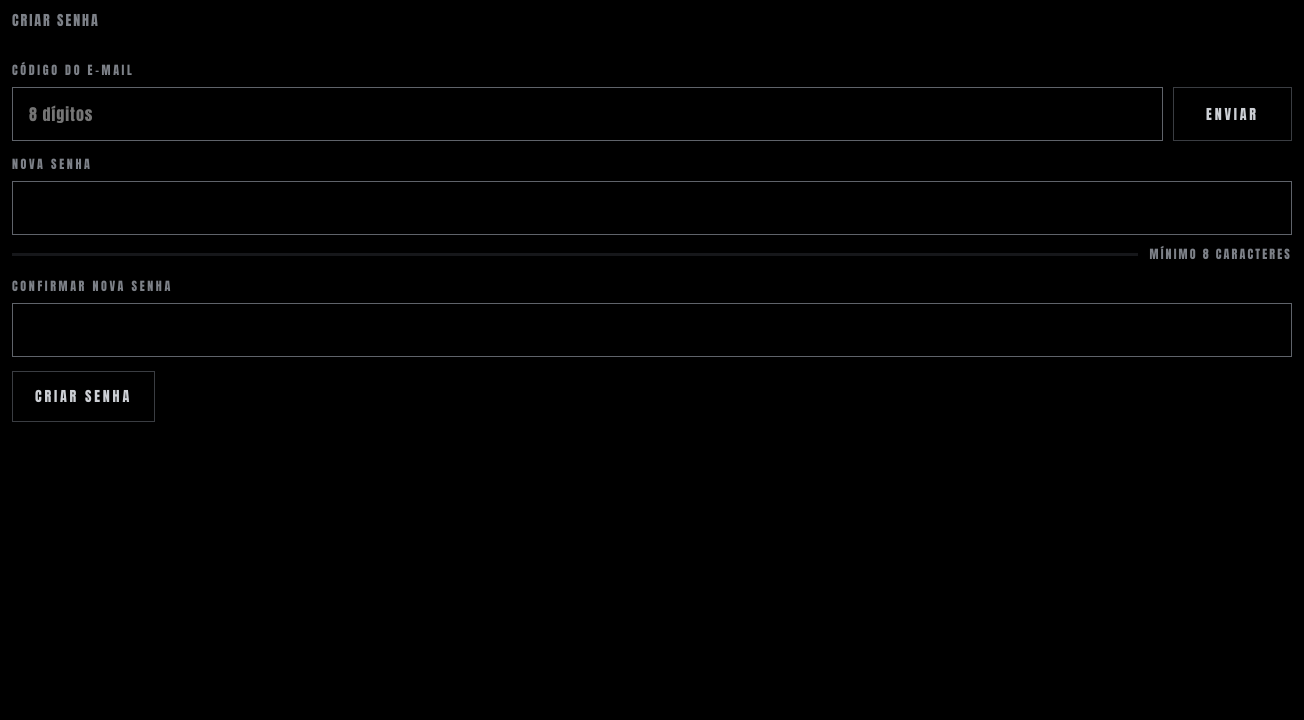
Scenario: bloco de senha de Seguranca (#389) › pedir o codigo nao leva a senha digitada junto
The width and height of the screenshot is (1304, 720).
Type "senha-nova-longa-2" into the password field labelled "Nova senha" at (652, 208), box [12,181,1292,235]
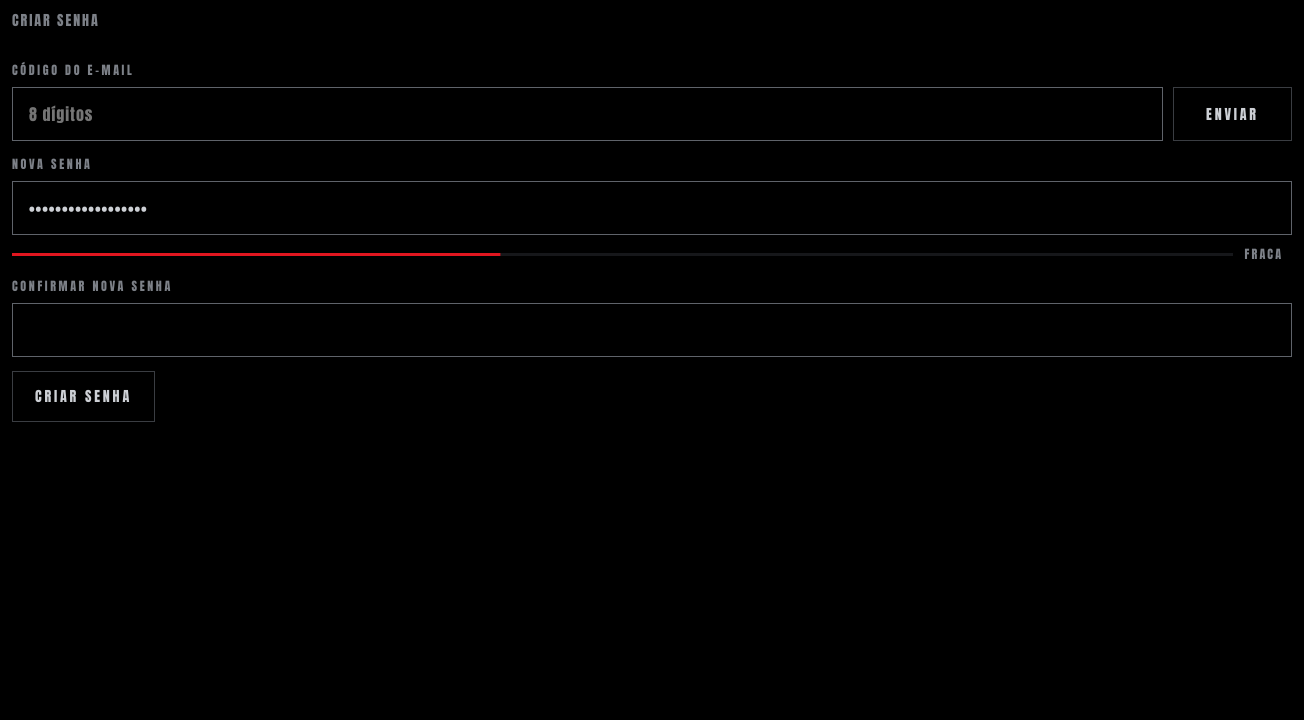
Click the button with aria-label "Enviar código" at (1232, 114), box [1173,87,1292,141]
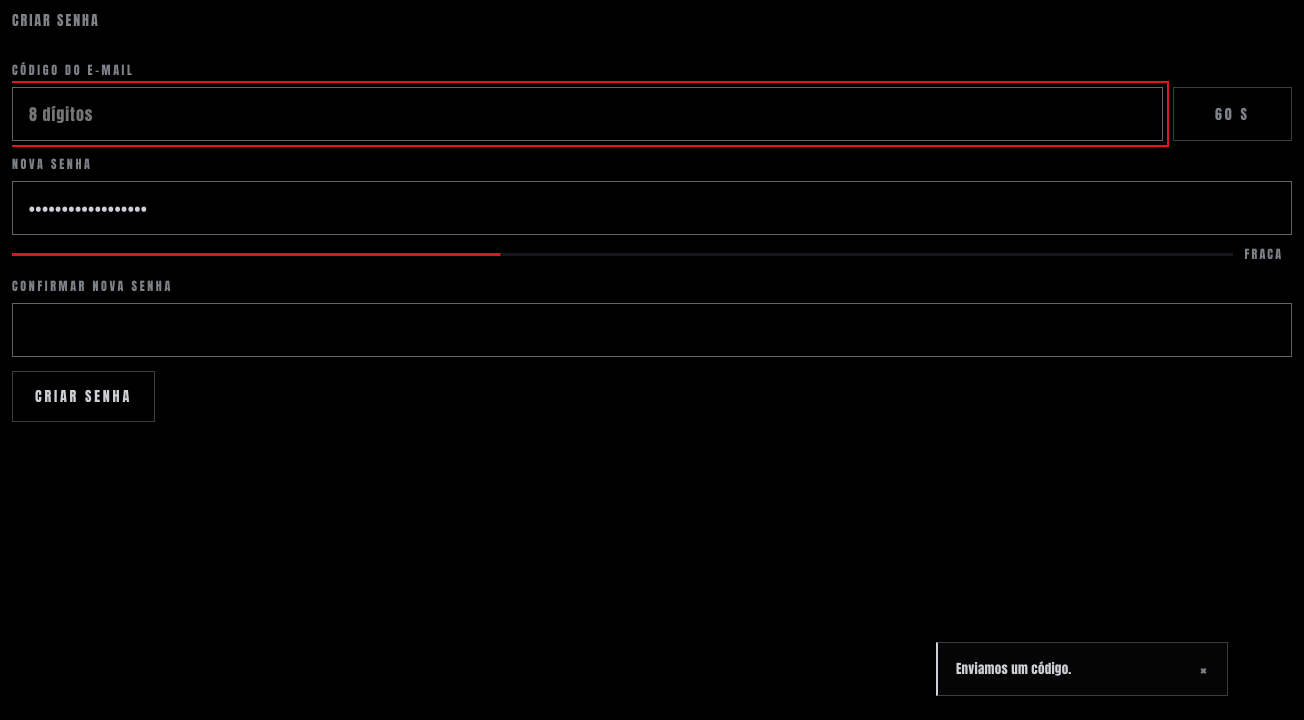
Check: the message shows "Enviamos um código", box [956,659,1072,678]
Check: the button "60 s" is disabled, box [1173,87,1292,141]
